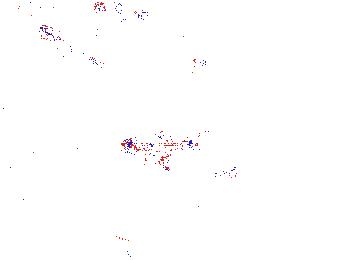X-ray fish: (310, 208, 322, 231)
red belly glassfish: (94, 1, 149, 29), (213, 165, 245, 187), (192, 55, 208, 71)
redtail glassfish: (35, 22, 101, 71), (119, 135, 207, 163), (15, 1, 89, 33)
